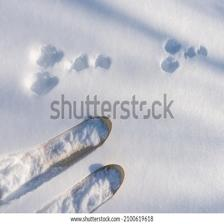rabbit: (22, 40, 113, 98), (160, 38, 213, 76)
